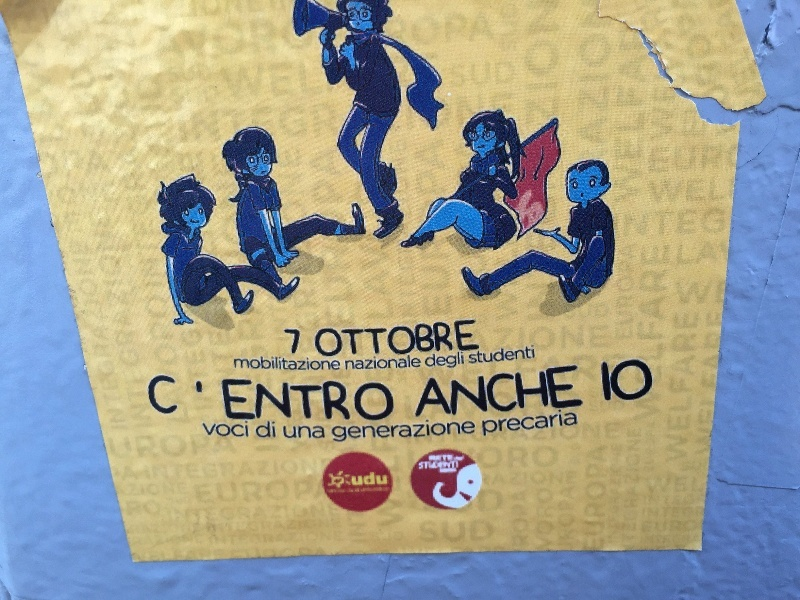text: (433, 365, 448, 418), (449, 365, 464, 418), (465, 365, 480, 418), (481, 365, 496, 418), (497, 365, 512, 418), (513, 365, 528, 418), (529, 365, 544, 418), (545, 365, 560, 418), (561, 365, 576, 418), (225, 379, 240, 421), (241, 379, 256, 421), (257, 379, 272, 421), (273, 379, 288, 421), (289, 379, 304, 421), (305, 379, 320, 421), (321, 379, 336, 421), (337, 379, 352, 421), (353, 379, 368, 421), (369, 379, 384, 421), (609, 359, 624, 401), (625, 359, 640, 401), (161, 374, 176, 415), (321, 318, 336, 358), (337, 318, 352, 358), (353, 318, 368, 358), (369, 318, 384, 358), (385, 318, 400, 358), (401, 318, 416, 358), (417, 318, 432, 358), (433, 318, 448, 358), (449, 318, 464, 358), (465, 318, 480, 358), (146, 374, 160, 415), (641, 359, 653, 401), (385, 379, 396, 421), (497, 408, 512, 437), (513, 408, 528, 437), (529, 408, 544, 437), (545, 408, 560, 437), (561, 408, 576, 437), (482, 408, 496, 437), (337, 417, 352, 443), (353, 417, 368, 443), (369, 417, 384, 443), (385, 417, 400, 443), (401, 417, 416, 443), (417, 417, 432, 443), (433, 417, 448, 443), (449, 417, 464, 443), (577, 365, 584, 418), (289, 328, 302, 355), (312, 318, 320, 358), (481, 345, 496, 365), (497, 345, 512, 365), (513, 345, 528, 365), (601, 359, 608, 401), (449, 351, 465, 369), (465, 417, 476, 443), (433, 351, 448, 369), (257, 421, 272, 439), (209, 420, 224, 437), (225, 420, 240, 437), (353, 354, 368, 370), (369, 354, 384, 370), (385, 354, 400, 370), (401, 354, 416, 370), (241, 356, 256, 371), (257, 356, 272, 371), (273, 356, 288, 371), (289, 356, 304, 371), (305, 356, 320, 371), (321, 356, 336, 371), (353, 471, 368, 486), (369, 471, 384, 486), (469, 345, 480, 365), (289, 425, 304, 439), (305, 425, 320, 439), (241, 420, 250, 437), (283, 328, 288, 355), (433, 461, 448, 470), (331, 417, 336, 443), (425, 351, 432, 369), (221, 379, 224, 421), (418, 461, 432, 470), (529, 345, 535, 365), (345, 354, 352, 370), (449, 455, 465, 462), (430, 365, 432, 418), (233, 356, 240, 371), (337, 486, 352, 493), (353, 486, 368, 493), (369, 486, 384, 493), (433, 455, 448, 462), (202, 420, 208, 437), (449, 461, 459, 470), (177, 374, 179, 415), (283, 425, 288, 439), (321, 425, 326, 439), (417, 354, 421, 370), (337, 356, 341, 371), (328, 486, 336, 493), (273, 421, 276, 439), (385, 471, 388, 486), (385, 486, 390, 493), (577, 408, 578, 437), (429, 455, 432, 462), (255, 421, 256, 439)
